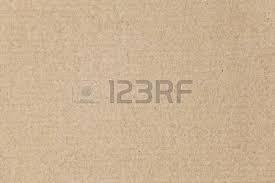Cardboard: (0, 3, 275, 183)
